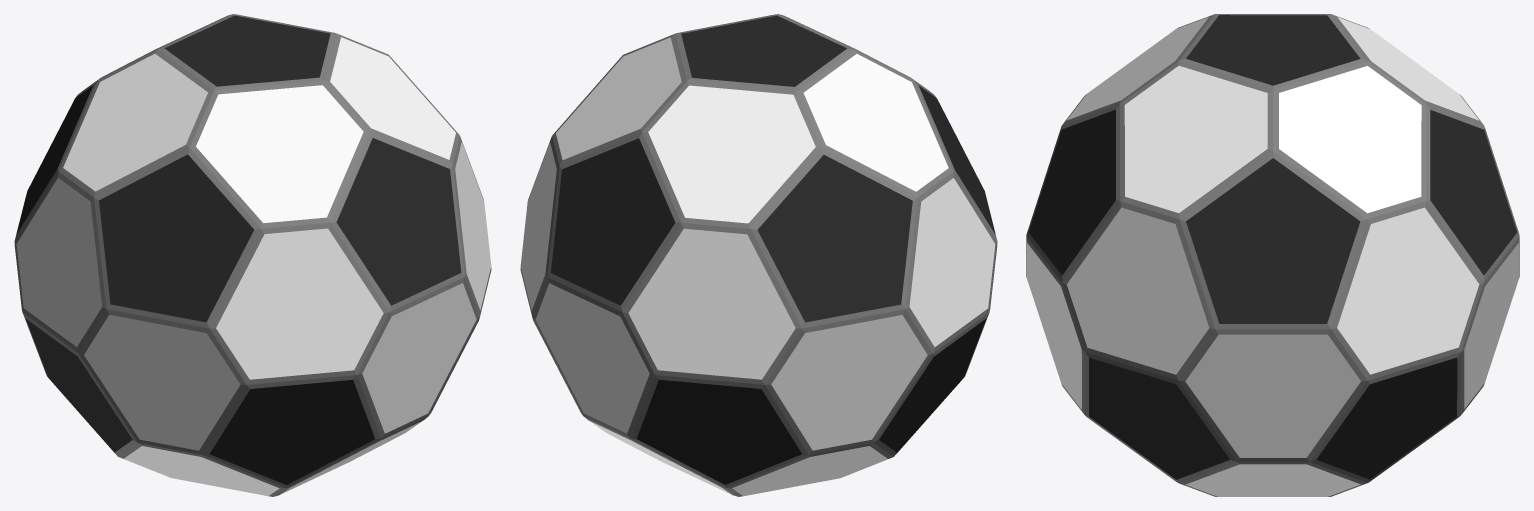
File: Football.fbx
3 renders of one model, left to right at view 1: azimuth 30°, elevation 25°; view 2: azimuth 150°, elevation 25°; view 3: azimuth 270°, elevation 25°, orthographic. The views are drawn at different scales.
Parts seen in each view (by area): view 1: Football; view 2: Football; view 3: Football.
Boxes of the visible parts, box(x1,y1,x2,y2) form: Football: box(14, 14, 491, 496); Football: box(520, 14, 997, 496); Football: box(1026, 14, 1519, 496).
Bounding box in the file's own units: 0.1855 × 0.1776 × 0.19.
